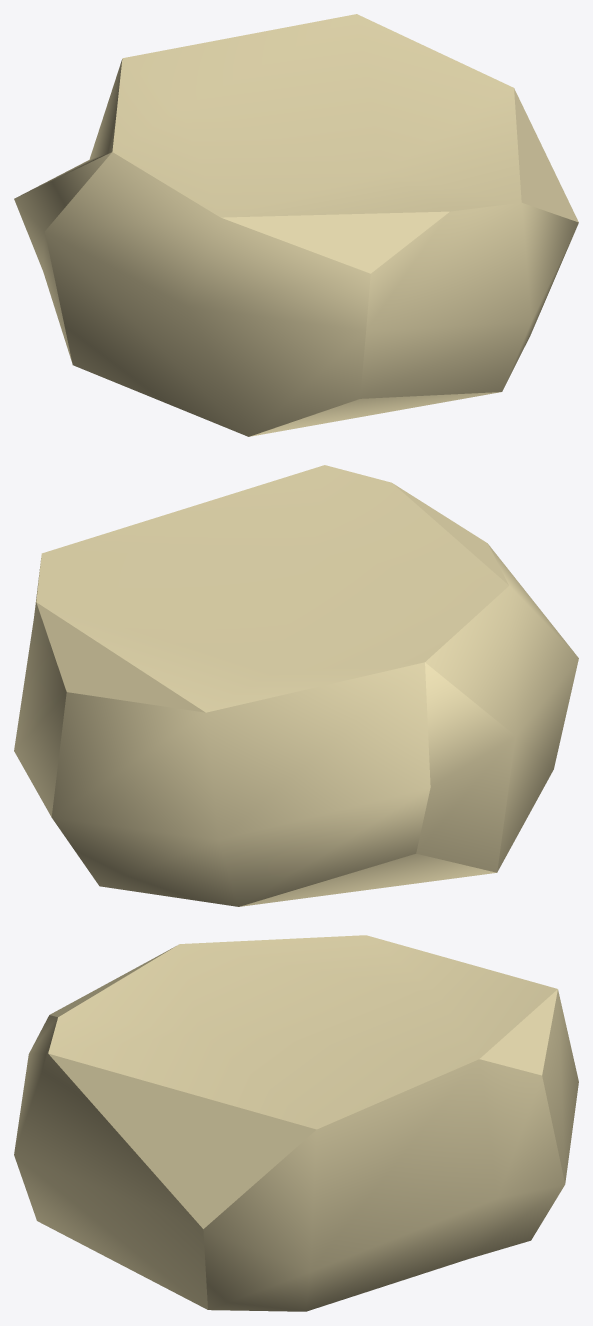
File: rock1.fbx
The picture shows the model from 3 angles, top to bottom: view 1: azimuth 30°, elevation 25°; view 2: azimuth 150°, elevation 25°; view 3: azimuth 270°, elevation 25°; orthographic projection. The views are drawn at different scales.
Visible parts, largest first — view 1: rock1; view 2: rock1; view 3: rock1.
Part boxes in pixels (left/top/right/bottom): rock1: left=14, top=14, right=578, bottom=436; rock1: left=14, top=465, right=578, bottom=906; rock1: left=14, top=935, right=578, bottom=1311.
Bounding box in the file's own units: 19.77 × 9.33 × 20.47.
